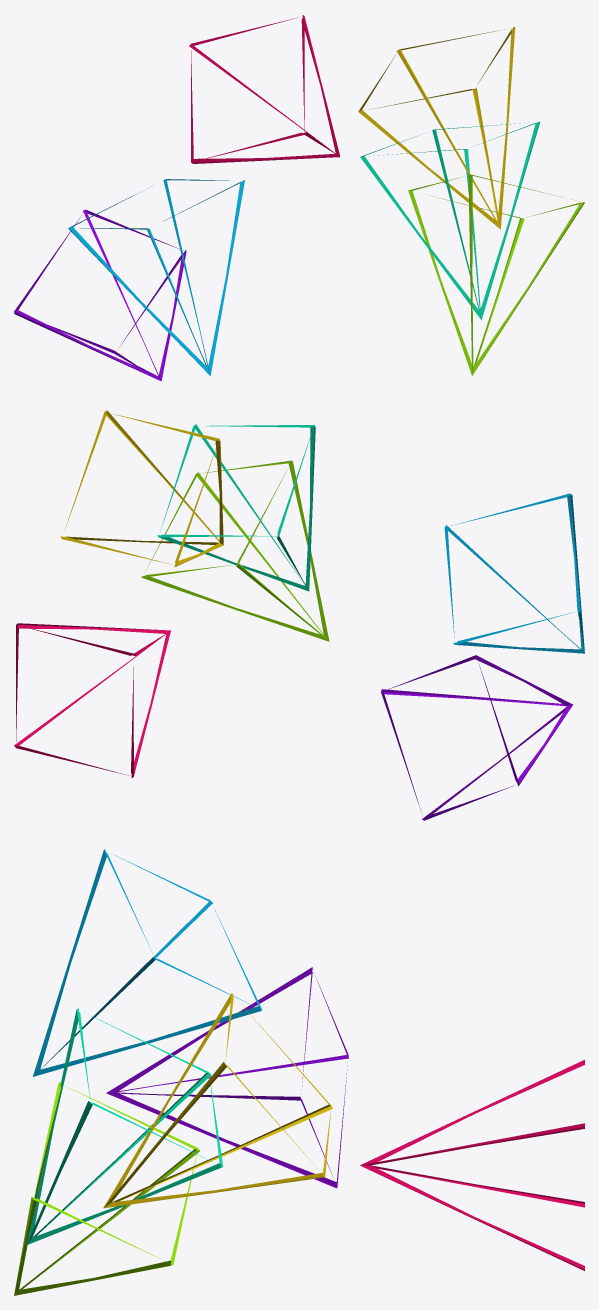
Rendered from pitch_180_wrist_video_50.glb.
3 renders of one model, top to bottom at view 1: azimuth 30°, elevation 25°; view 2: azimuth 150°, elevation 25°; view 3: azimuth 270°, elevation 25°, orthographic. The views are drawn at different scales.
Visible parts, largest first — view 1: world; view 2: world; view 3: world.
Part boxes in pixels (left/top/right/bottom): world: left=14, top=15, right=584, bottom=381; world: left=14, top=410, right=584, bottom=820; world: left=14, top=849, right=584, bottom=1295.
Bounding box in the file's own units: 0.589 × 0.3436 × 0.5269.
